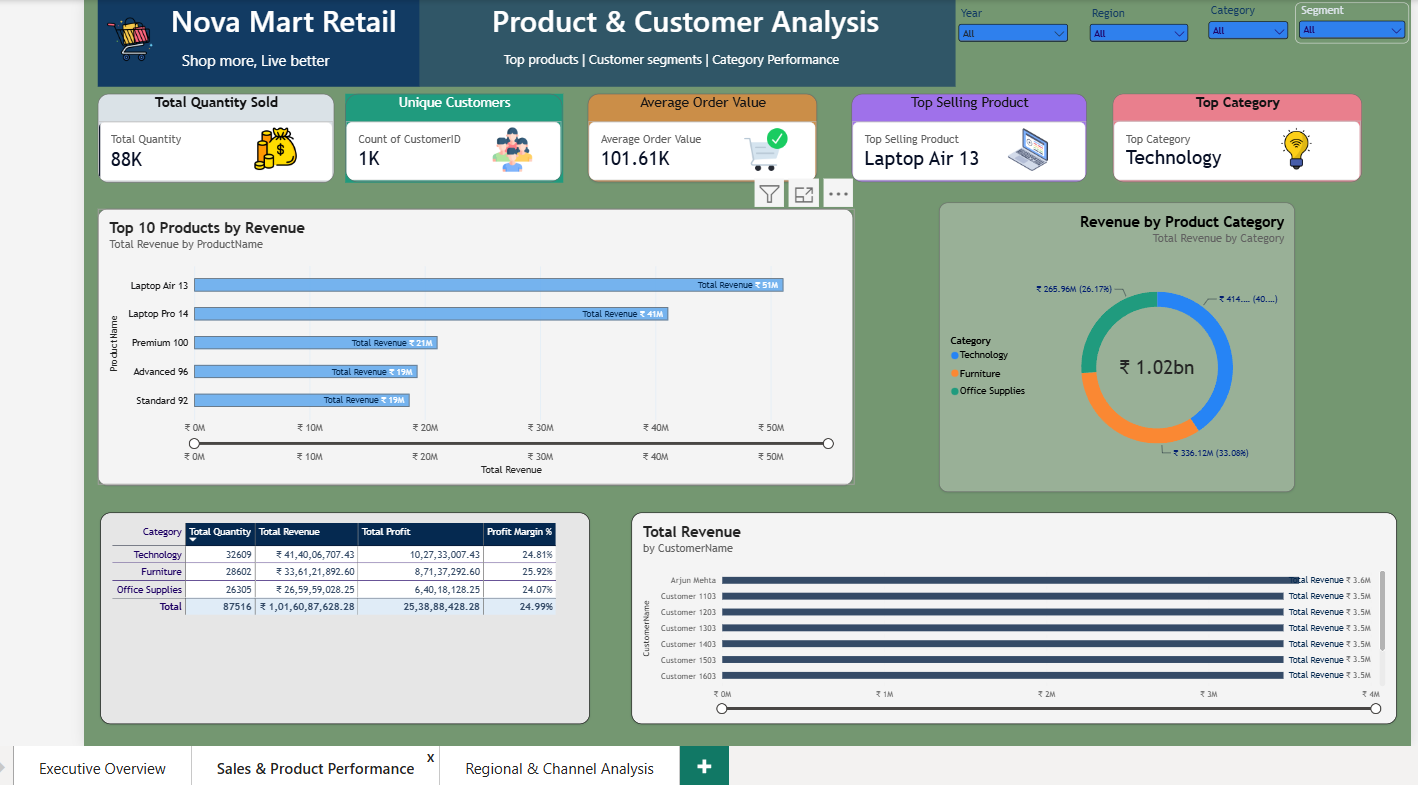

Layout of this report page (visuals, bound fields, positions):
{"tool":"powerbi","page":{"name":"Sales & Product Performance","canvas":[1920,1080],"ordinal":1},"visuals":[{"type":"textbox","box":[19.5,0,465.3,125.5],"z":0},{"type":"textbox","box":[484.2,0,777,125.5],"z":1000},{"type":"cardVisual","title":"Total Quantity Sold ","fields":{"Data":["vw_SalesAnalysis.Total Quantity"]},"box":[19.8,136.5,342,128.5],"z":2000},{"type":"cardVisual","title":"Unique Customers","fields":{"Data":["Count(vw_SalesAnalysis.CustomerID)"]},"box":[378.6,136.5,314.8,127.7],"z":3000,"group":"g1"},{"type":"cardVisual","title":"Average Order Value","fields":{"Data":["vw_SalesAnalysis.Average Order Value"]},"box":[728.6,136.5,332.4,127.7],"z":3000},{"type":"clusteredBarChart","title":"Top 10 Products by Revenue","fields":{"Category":["vw_SalesAnalysis.ProductName"],"Y":["vw_SalesAnalysis.Total Revenue"]},"box":[20.4,302.1,1094,400.6],"z":4000},{"type":"donutChart","title":"Revenue by Product Category","fields":{"Category":["vw_SalesAnalysis.Category"],"Y":["vw_SalesAnalysis.Total Revenue"]},"box":[1237.9,293,515.2,419.1],"z":5000},{"type":"clusteredBarChart","fields":{"Category":["vw_SalesAnalysis.CustomerName"],"Y":["vw_SalesAnalysis.Total Revenue"]},"box":[792.7,742.7,1108.4,306.6],"z":6000},{"type":"tableEx","fields":{"Values":["vw_SalesAnalysis.Category","vw_SalesAnalysis.Total Quantity","vw_SalesAnalysis.Total Revenue","vw_SalesAnalysis.Total Profit","vw_SalesAnalysis.Profit Margin %"]},"box":[23.8,742.3,708.6,306.6],"z":7000},{"type":"cardVisual","title":"Top Selling Product","fields":{"Data":["vw_SalesAnalysis.Top Selling Product"]},"box":[1111.6,136.5,341.2,127.7],"z":8000},{"type":"cardVisual","title":"Top Category","fields":{"Data":["vw_SalesAnalysis.Top Category"]},"box":[1490.2,136.5,361,127.7],"z":9000},{"type":"slicer","fields":{"Values":["DateTable.Year"]},"box":[1260.6,9.1,168.2,82.8],"z":10000},{"type":"slicer","fields":{"Values":["vw_SalesAnalysis.Region"]},"box":[1451.4,9.1,152.2,88.1],"z":11000},{"type":"slicer","fields":{"Values":["vw_SalesAnalysis.Category"]},"box":[1624,4.5,124.9,90.9],"z":12000},{"type":"slicer","fields":{"Values":["vw_SalesAnalysis.Segment"]},"box":[1754.3,4.4,165.1,59.4],"z":13000},{"type":"image","box":[215.7,184.9,123.3,61.6],"z":14000},{"type":"image","box":[935.5,184.9,103.5,63.8],"z":15000},{"type":"image","box":[567.9,184.9,103.5,63.8],"z":16000,"group":"g1"},{"type":"image","box":[1314.1,184.9,105.7,63.8],"z":16000},{"type":"image","box":[1694.9,184.9,118.9,61.6],"z":17000},{"type":"image","box":[19.8,24.2,92.4,66],"z":18000},{"type":"group","id":"g1","title":"Group 1","box":[378.6,136.5,314.8,127.7],"z":19000}]}

Visuals, with their boxes on the page's 1920x1080 design canvas (x1, y1, x2, y2). These are canvas units, not pixel positions in the 1418x785 screenshot, which may show the page scaled, cropped or inside an application window:
textbox: left=20, top=0, right=485, bottom=126
textbox: left=484, top=0, right=1261, bottom=126
"Total Quantity Sold " cardVisual: left=20, top=136, right=362, bottom=265
"Unique Customers" cardVisual: left=379, top=136, right=693, bottom=264
"Average Order Value" cardVisual: left=729, top=136, right=1061, bottom=264
"Top 10 Products by Revenue" clusteredBarChart: left=20, top=302, right=1114, bottom=703
"Revenue by Product Category" donutChart: left=1238, top=293, right=1753, bottom=712
clusteredBarChart - vw_SalesAnalysis.CustomerName x vw_SalesAnalysis.Total Revenue: left=793, top=743, right=1901, bottom=1049
tableEx - vw_SalesAnalysis.Category x vw_SalesAnalysis.Total Quantity: left=24, top=742, right=732, bottom=1049
"Top Selling Product" cardVisual: left=1112, top=136, right=1453, bottom=264
"Top Category" cardVisual: left=1490, top=136, right=1851, bottom=264
slicer - DateTable.Year: left=1261, top=9, right=1429, bottom=92
slicer - vw_SalesAnalysis.Region: left=1451, top=9, right=1604, bottom=97
slicer - vw_SalesAnalysis.Category: left=1624, top=4, right=1749, bottom=95
slicer - vw_SalesAnalysis.Segment: left=1754, top=4, right=1919, bottom=64
image: left=216, top=185, right=339, bottom=246
image: left=936, top=185, right=1039, bottom=249
image: left=568, top=185, right=671, bottom=249
image: left=1314, top=185, right=1420, bottom=249
image: left=1695, top=185, right=1814, bottom=246
image: left=20, top=24, right=112, bottom=90
"Group 1" group: left=379, top=136, right=693, bottom=264
